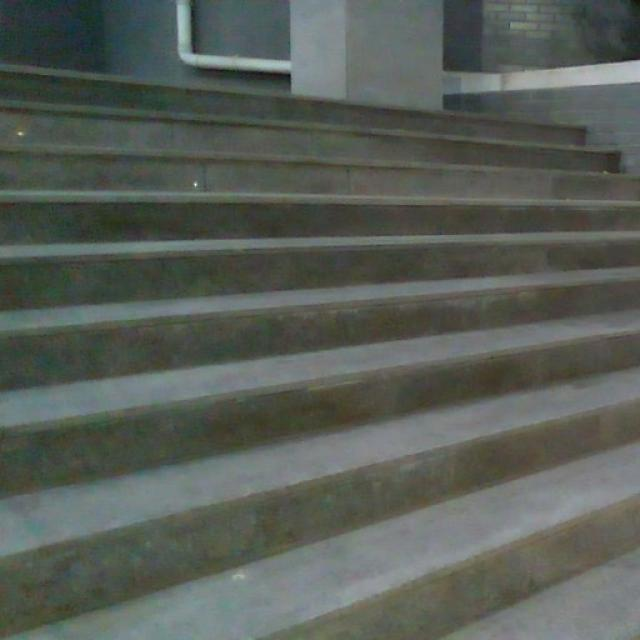Stairs: (0, 57, 639, 638)
